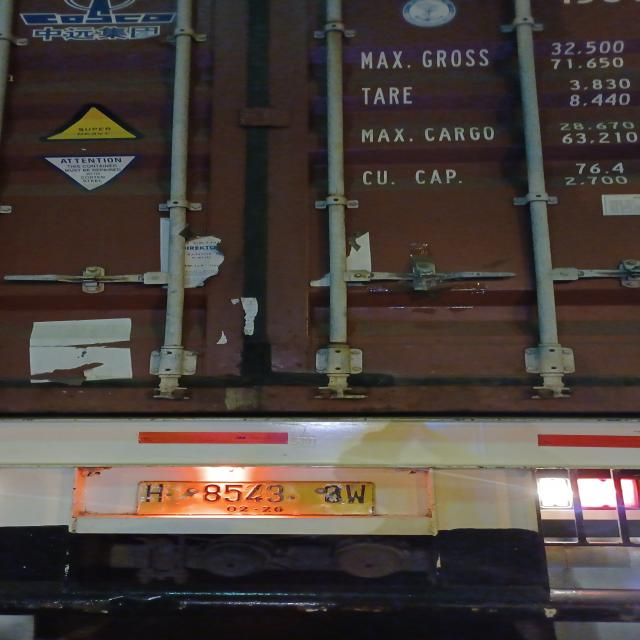seal: (402, 264, 440, 291)
